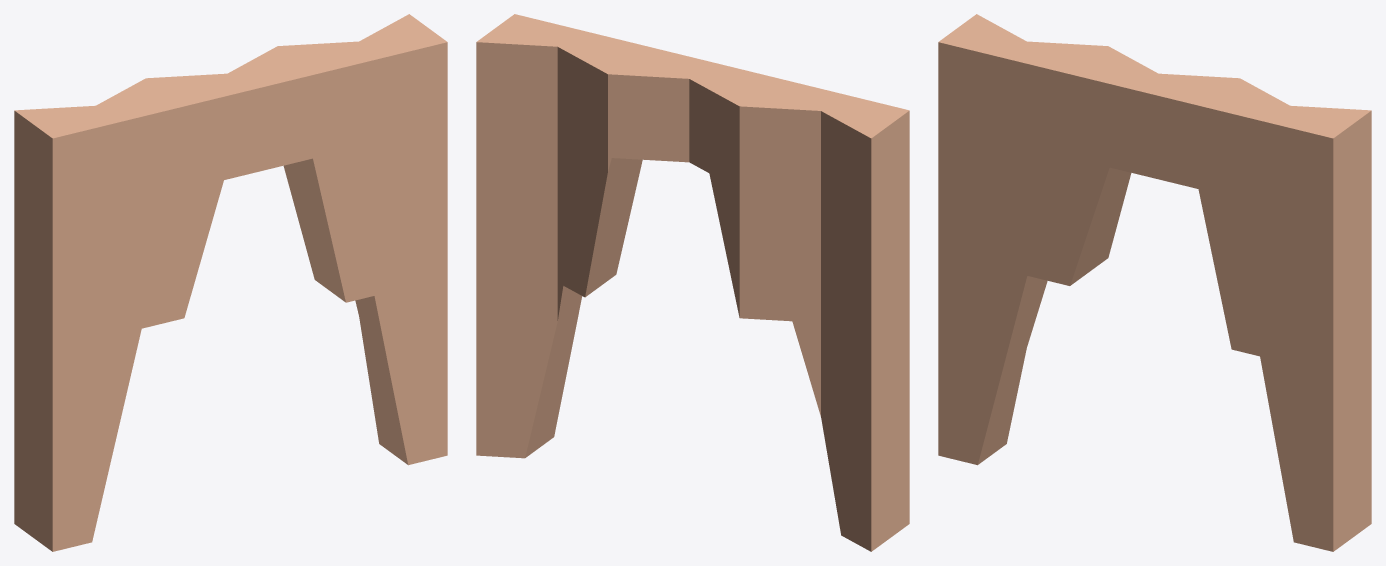
Rendered from cliff_cave_rock.glb.
3 views of the same model, side by side, from view 1: azimuth 30°, elevation 25°; view 2: azimuth 150°, elevation 25°; view 3: azimuth 330°, elevation 25° (orthographic).
Parts seen in each view (by area): view 1: cliff_cave_rock; view 2: cliff_cave_rock; view 3: cliff_cave_rock.
Boxes of the visible parts, left/top/right/bottom form: cliff_cave_rock: left=14, top=14, right=447, bottom=551; cliff_cave_rock: left=476, top=14, right=909, bottom=551; cliff_cave_rock: left=938, top=14, right=1371, bottom=551.
Bounding box in the file's own units: 1 × 1 × 0.1685.
